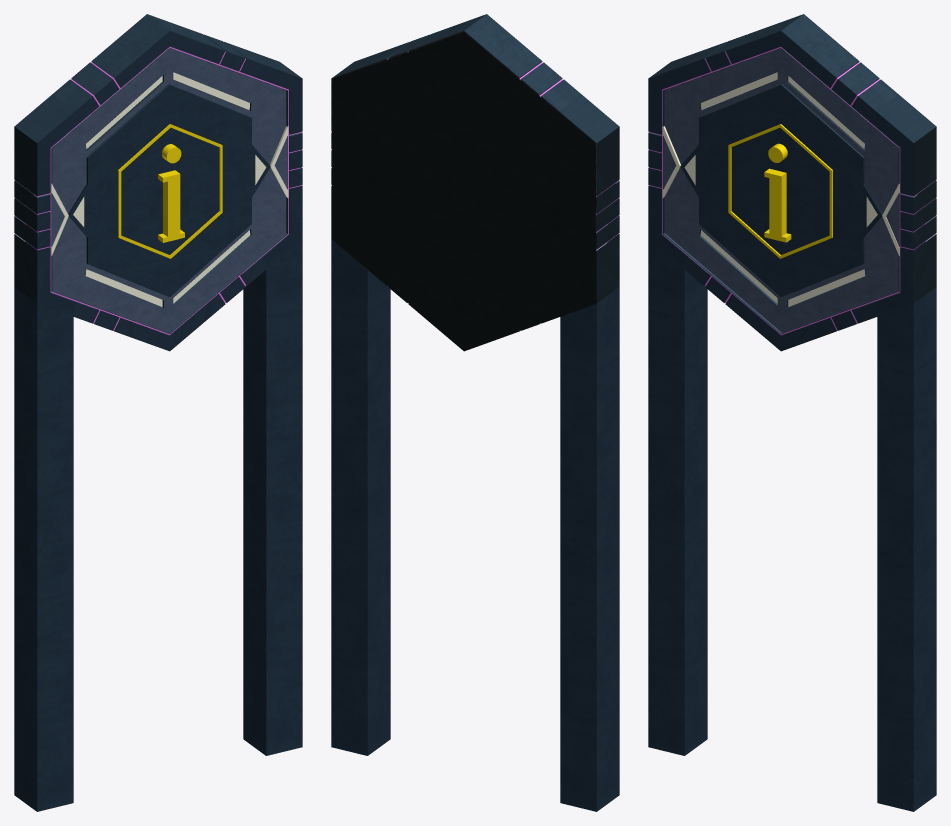
The model's file is InfoPanel02_Art.glb.
3 views of the same model, side by side, from view 1: azimuth 30°, elevation 25°; view 2: azimuth 150°, elevation 25°; view 3: azimuth 330°, elevation 25° (orthographic).
Parts seen in each view (by area): view 1: InfoPanel02_Art; view 2: InfoPanel02_Art; view 3: InfoPanel02_Art.
Part boxes in pixels (x1,y1,x2,y2): InfoPanel02_Art: (14, 14, 302, 811); InfoPanel02_Art: (331, 14, 619, 811); InfoPanel02_Art: (648, 14, 936, 811).
Size of the model in its own units: 1.18 by 3.17 by 0.2131.
Materials: 1 (1 with a texture image).
